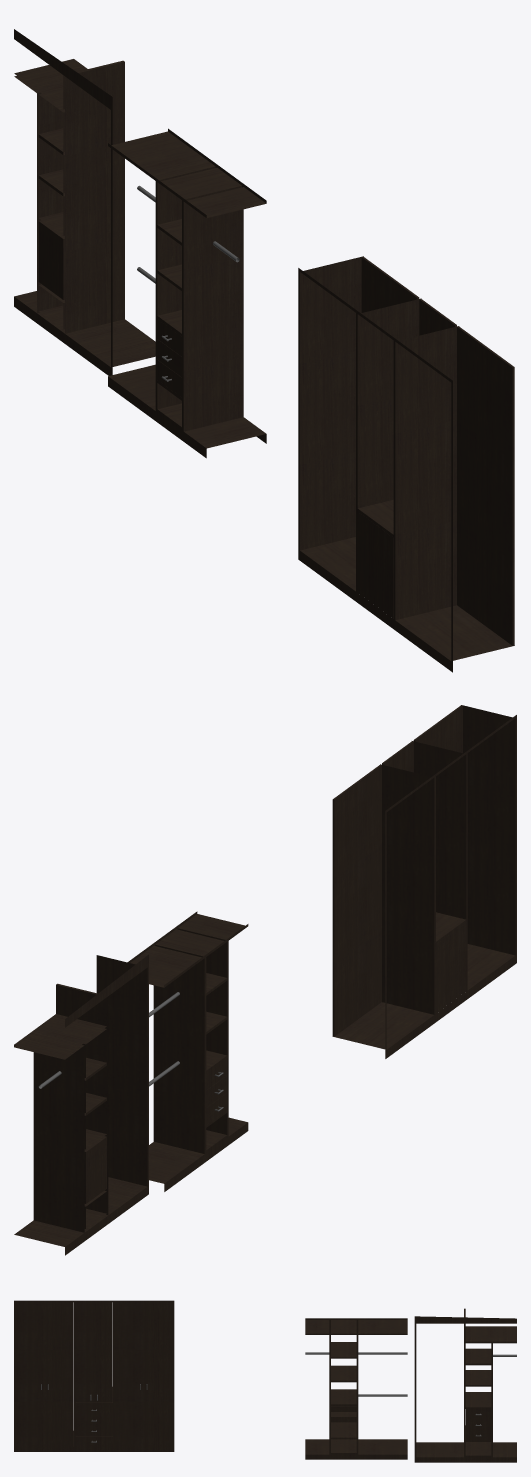
Rendered from arq_guardaropa.FBX.
3 renders of one model, top to bottom at view 1: azimuth 30°, elevation 25°; view 2: azimuth 150°, elevation 25°; view 3: azimuth 270°, elevation 25°, orthographic. The views are drawn at different scales.
Parts seen in each view (by area): view 1: arq_guardaropa; view 2: arq_guardaropa; view 3: arq_guardaropa.
Part boxes in pixels (left/top/right/bottom): arq_guardaropa: left=14, top=29, right=514, bottom=672; arq_guardaropa: left=14, top=705, right=516, bottom=1255; arq_guardaropa: left=14, top=1300, right=516, bottom=1462.
Bounding box in the file's own units: 1.14 × 2.87 × 8.65.
Materials: 2 (1 with a texture image).
